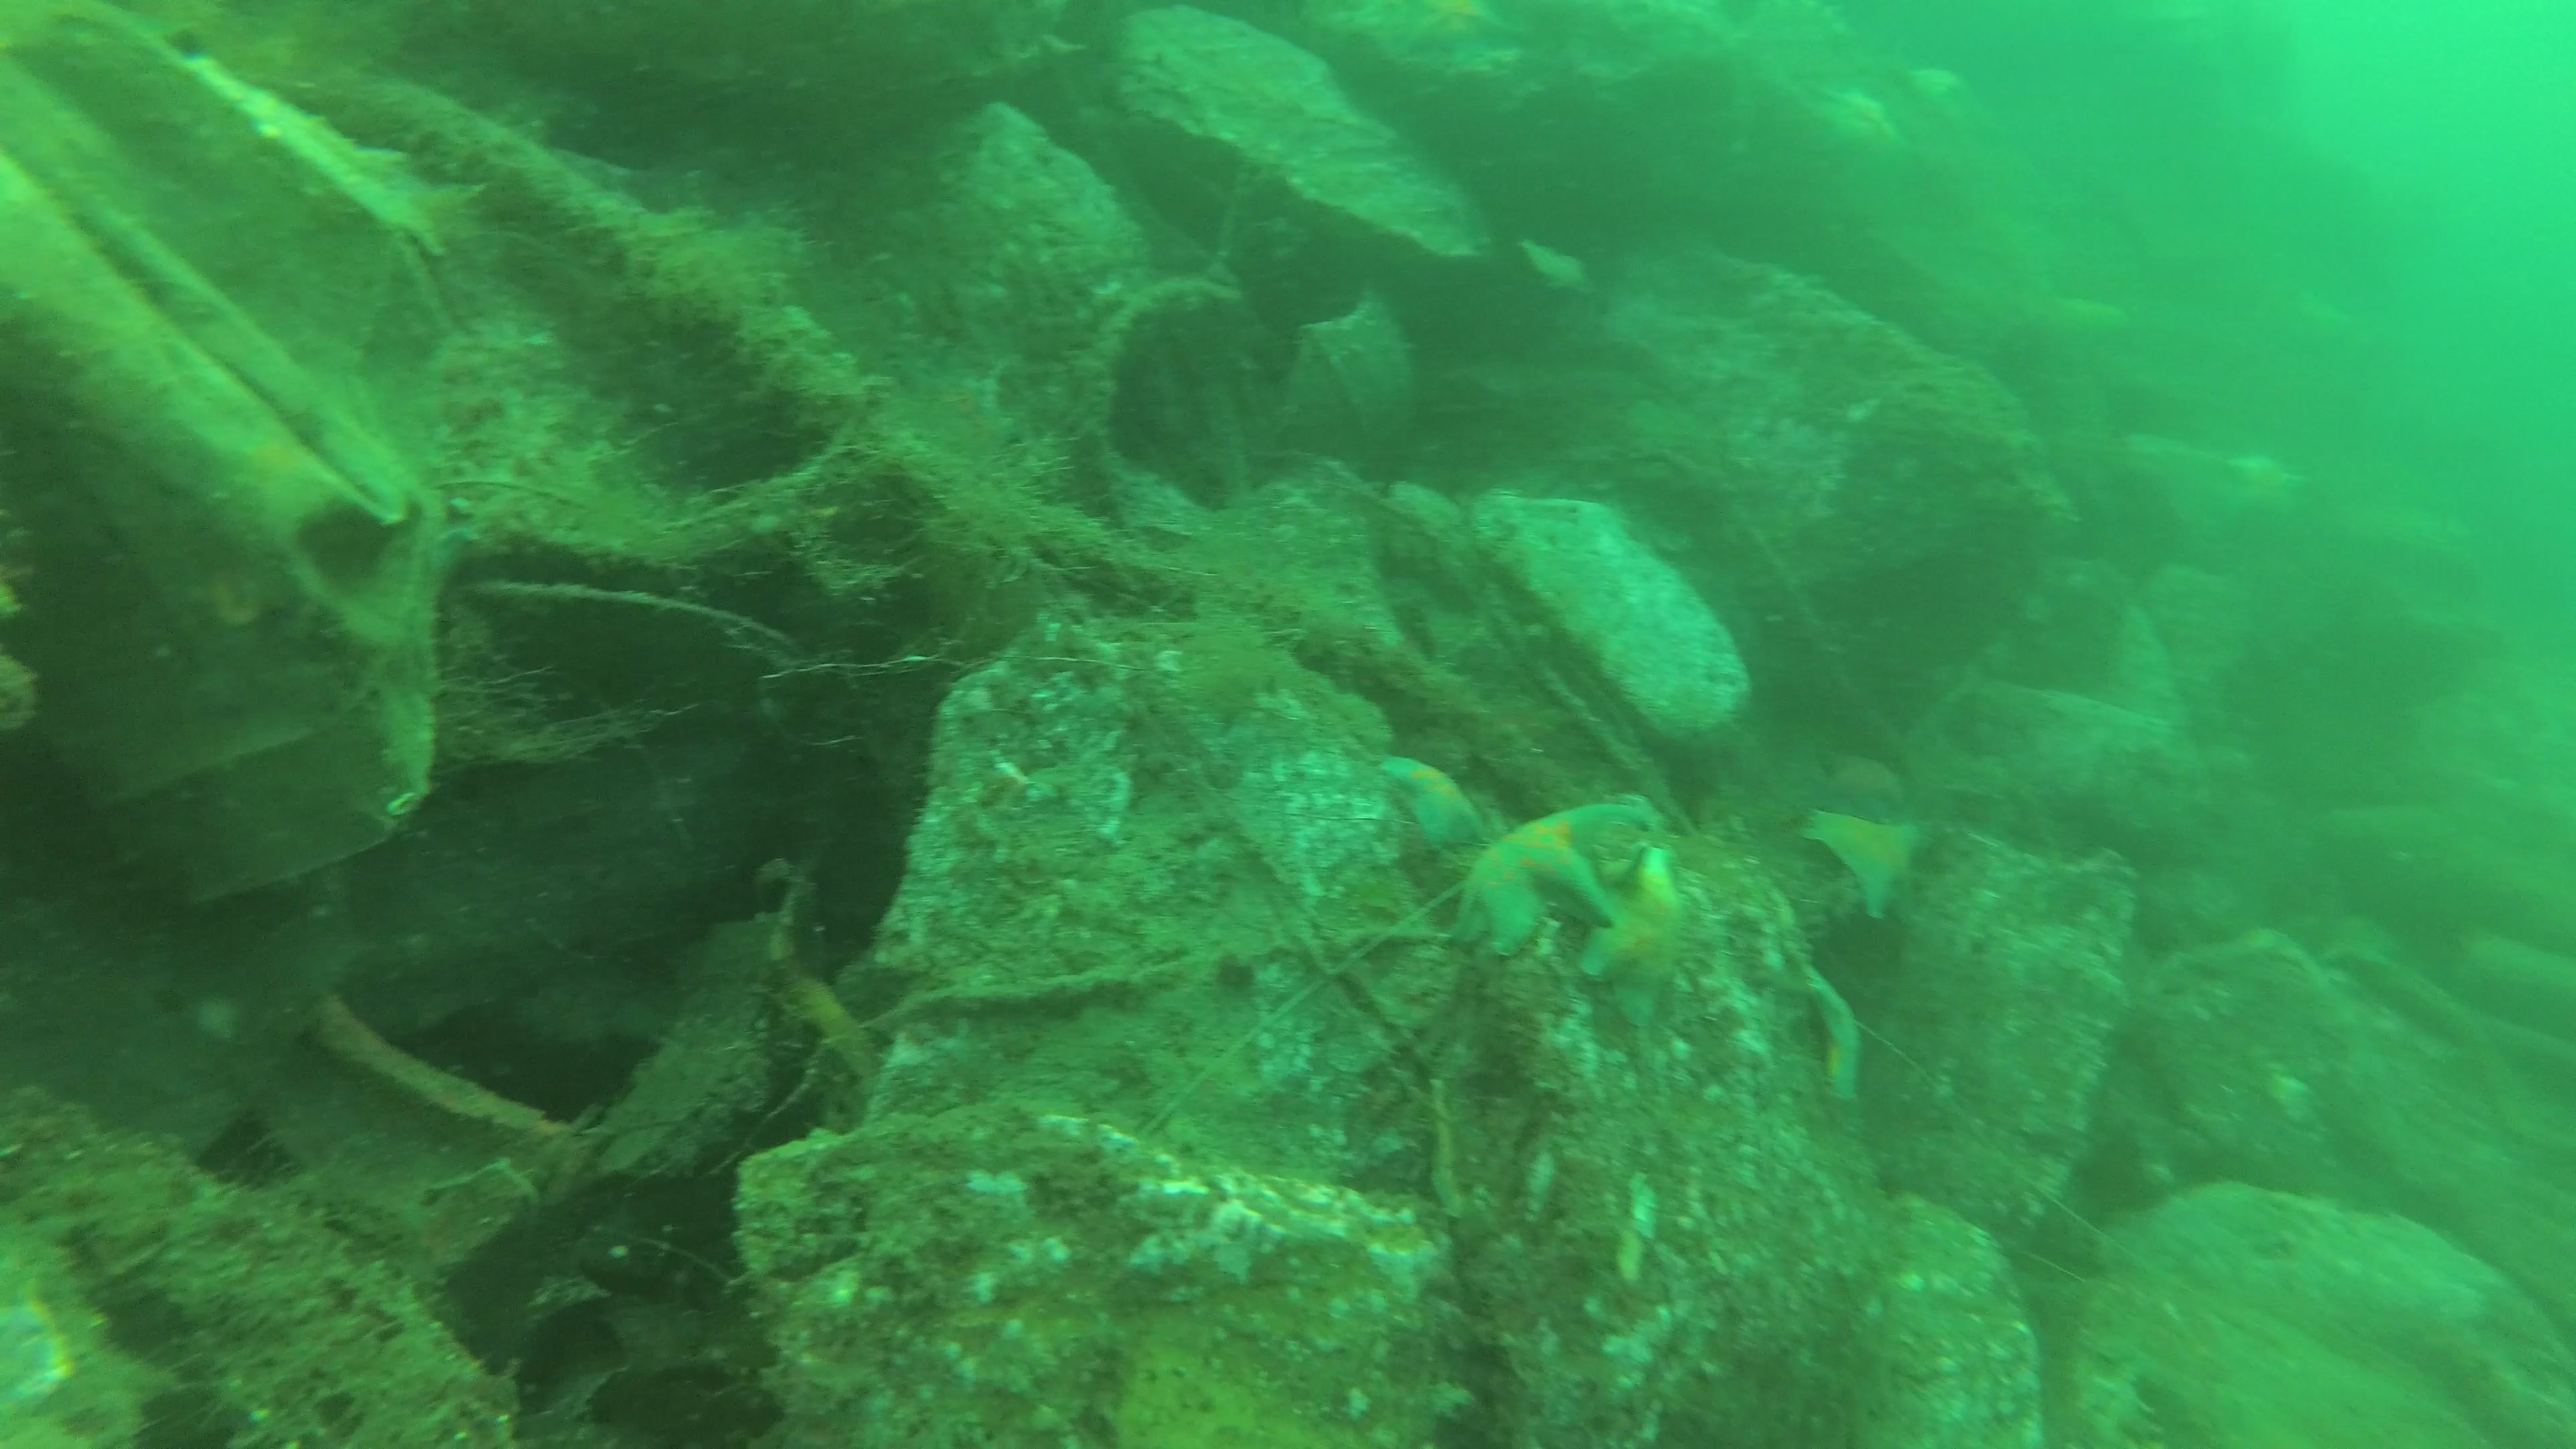starfish: (1449, 791, 1667, 955), (1585, 846, 1686, 1026), (1805, 807, 1927, 918), (1385, 752, 1484, 849), (1801, 968, 1861, 1106)
